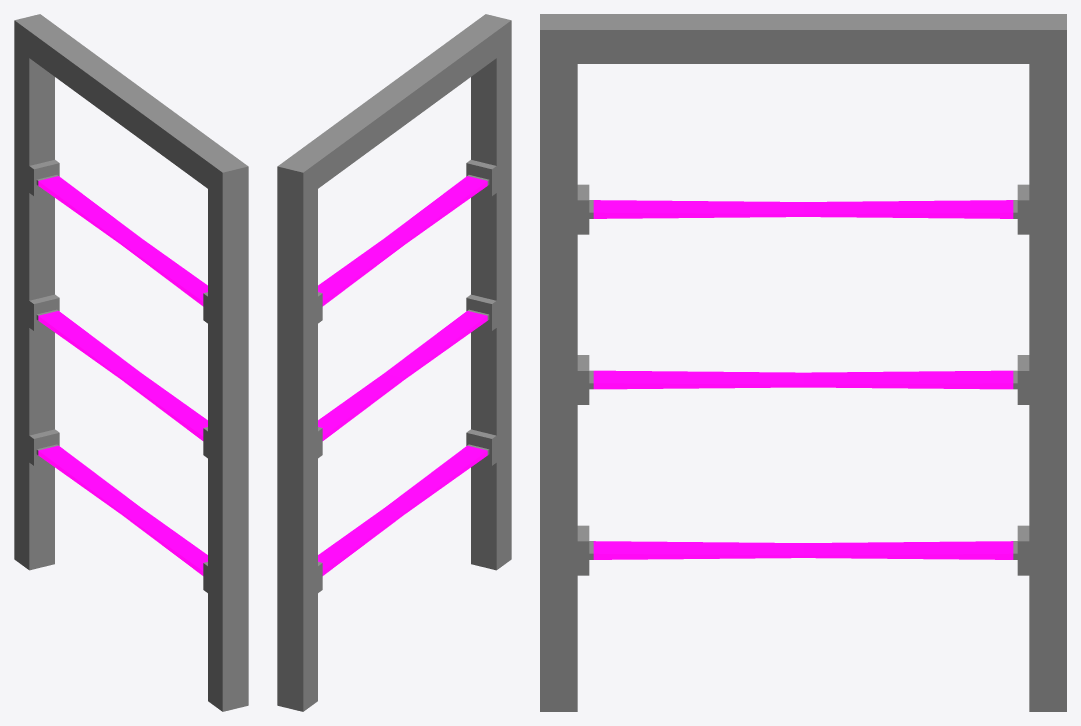
Rendered from SecurityDoor.fbx.
3 renders of one model, left to right at view 1: azimuth 30°, elevation 25°; view 2: azimuth 150°, elevation 25°; view 3: azimuth 270°, elevation 25°, orthographic. The views are drawn at different scales.
Parts seen in each view (by area): view 1: Door, Lazers; view 2: Door, Lazers; view 3: Door, Lazers.
Part boxes in pixels (left/top/right/bottom): Door: left=14, top=14, right=248, bottom=711; Lazers: left=38, top=176, right=207, bottom=575; Door: left=277, top=14, right=511, bottom=711; Lazers: left=318, top=176, right=487, bottom=575; Door: left=540, top=14, right=1066, bottom=711; Lazers: left=593, top=200, right=1013, bottom=559.
Size of the model in its own units: 100 by 2000 by 1400.
